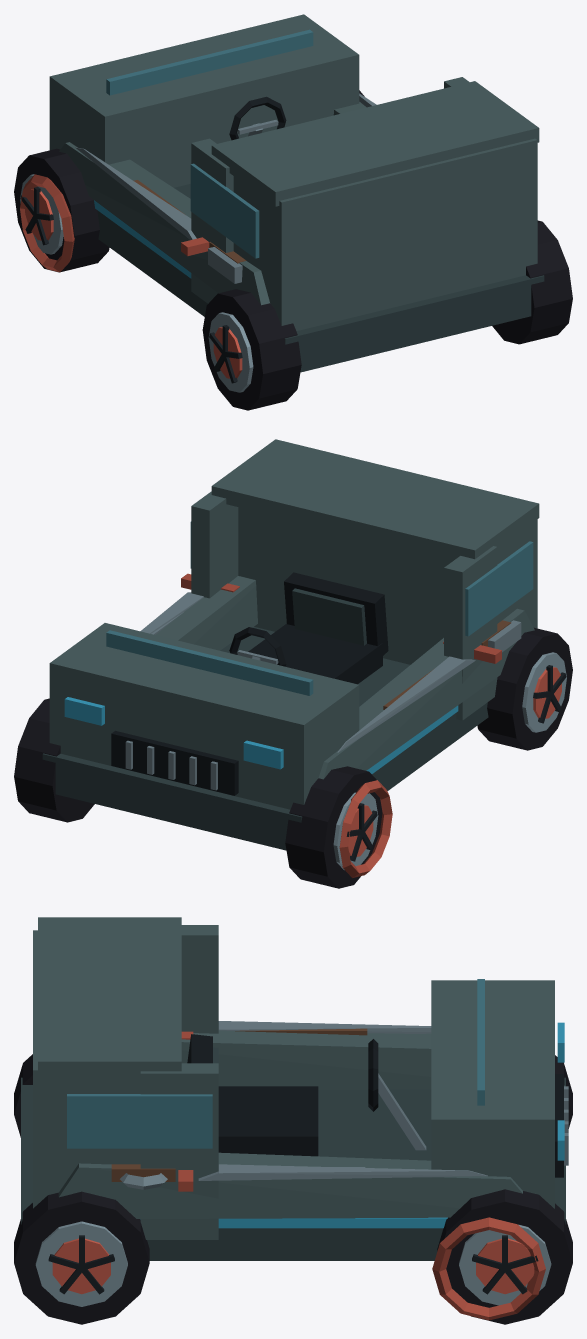
File: kart.glb
The picture shows the model from 3 angles, top to bottom: view 1: azimuth 30°, elevation 25°; view 2: azimuth 150°, elevation 25°; view 3: azimuth 270°, elevation 25°; orthographic projection. The views are drawn at different scales.
Visible parts, largest first — view 1: identity-van-van-utility-body, wheel-rear-left, wheel-front-left, wheel-rear-right, identity-van-motif-neon, identity-van-motif-swords, identity-van-driver-cockpit, identity-van-motif-tools; view 2: identity-van-van-utility-body, identity-van-driver-cockpit, wheel-front-left, wheel-rear-left, wheel-front-right, identity-van-motif-swords, identity-van-motif-neon, identity-van-motif-tools; view 3: identity-van-van-utility-body, wheel-rear-right, wheel-front-right, identity-van-driver-cockpit, identity-van-motif-neon, identity-van-motif-swords, identity-van-motif-tools, wheel-rear-left.
Boxes of the visible parts, left/top/right/bottom form: identity-van-van-utility-body: left=49, top=14, right=544, bottom=372; wheel-rear-left: left=202, top=289, right=301, bottom=410; wheel-front-left: left=14, top=148, right=109, bottom=272; wheel-rear-right: left=492, top=220, right=572, bottom=344; identity-van-motif-neon: left=20, top=174, right=191, bottom=278; identity-van-motif-swords: left=75, top=93, right=376, bottom=263; identity-van-driver-cockpit: left=229, top=96, right=286, bottom=140; identity-van-motif-tools: left=133, top=180, right=242, bottom=283; identity-van-van-utility-body: left=42, top=439, right=539, bottom=850; identity-van-driver-cockpit: left=229, top=572, right=388, bottom=684; wheel-front-left: left=285, top=766, right=382, bottom=888; wheel-rear-left: left=477, top=627, right=572, bottom=750; wheel-front-right: left=14, top=698, right=94, bottom=822; identity-van-motif-swords: left=140, top=573, right=511, bottom=752; identity-van-motif-neon: left=339, top=705, right=458, bottom=877; identity-van-motif-tools: left=151, top=612, right=521, bottom=709; identity-van-van-utility-body: left=21, top=917, right=568, bottom=1260; wheel-rear-right: left=14, top=1191, right=149, bottom=1324; wheel-front-right: left=437, top=1189, right=572, bottom=1324; identity-van-driver-cockpit: left=187, top=1034, right=426, bottom=1156; identity-van-motif-neon: left=140, top=1217, right=545, bottom=1320; identity-van-motif-swords: left=111, top=1021, right=487, bottom=1191; identity-van-motif-tools: left=120, top=1028, right=367, bottom=1189; wheel-rear-left: left=14, top=1054, right=32, bottom=1137.
Bounding box in the file's own units: 2.13 × 1.38 × 2.8.
